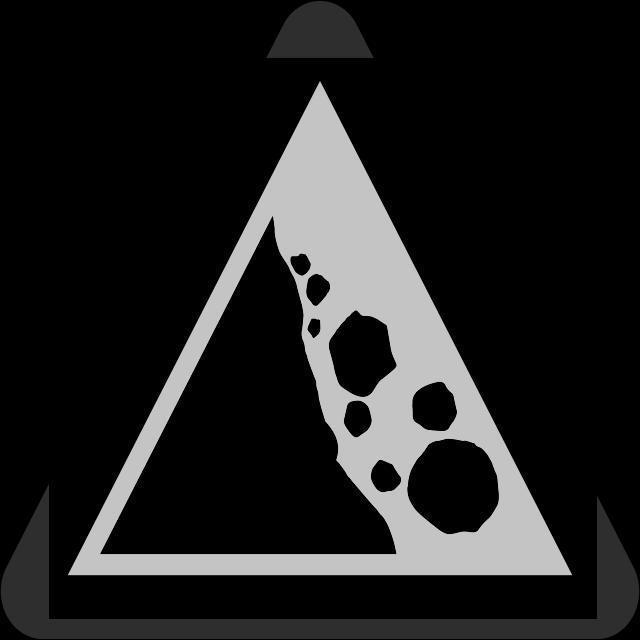falling rocks: (66, 65, 588, 606)
